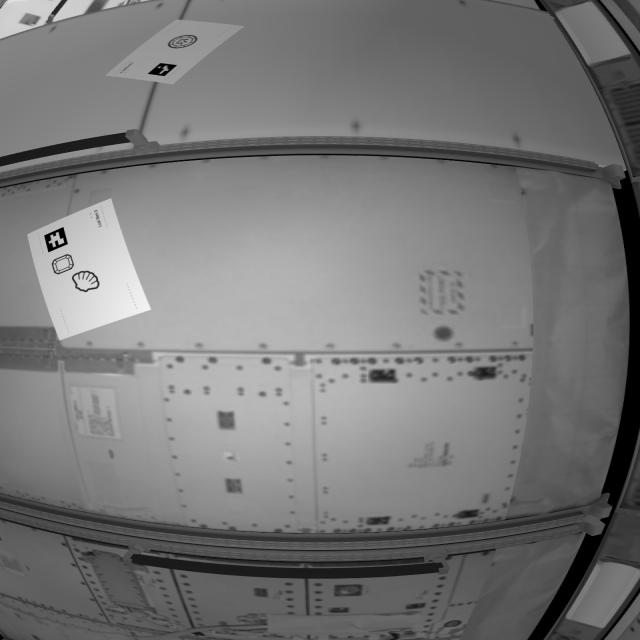coin: (167, 34, 202, 51)
emerald: (50, 253, 82, 276)
shell: (68, 268, 108, 295)
